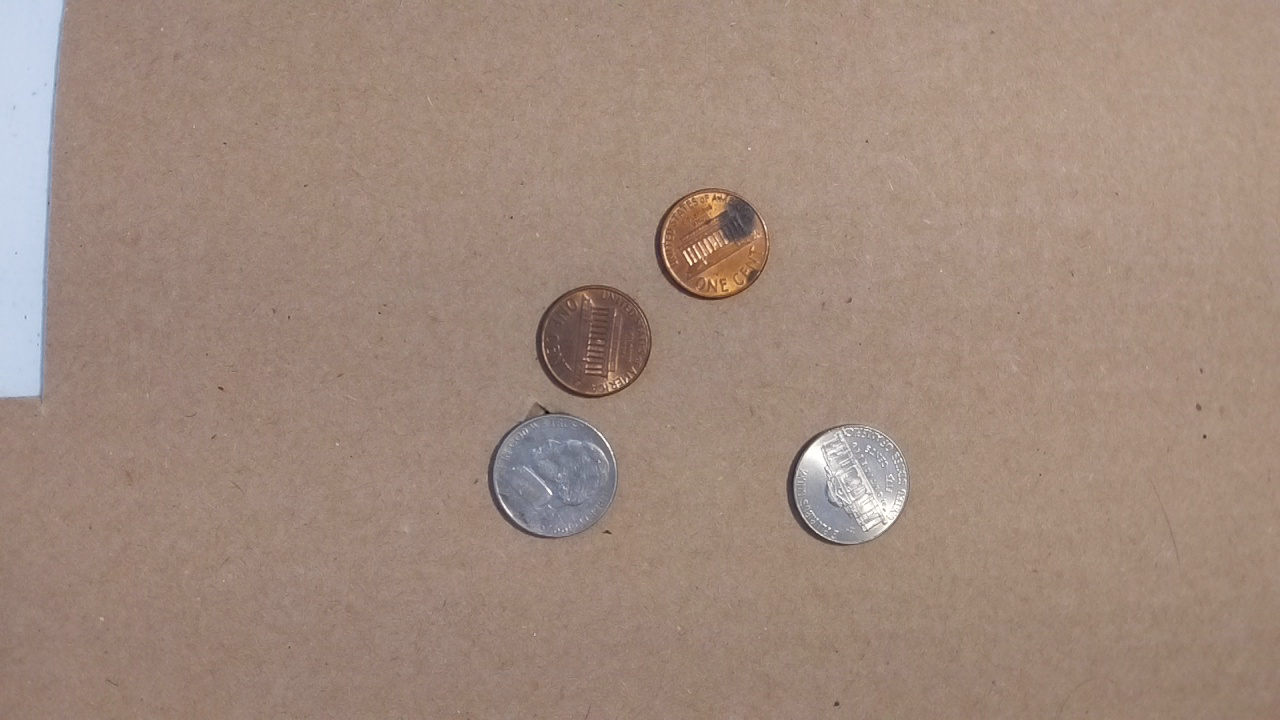nickel: (784, 418, 912, 552), (488, 413, 618, 543)
penny: (652, 184, 772, 304), (534, 282, 654, 398)
